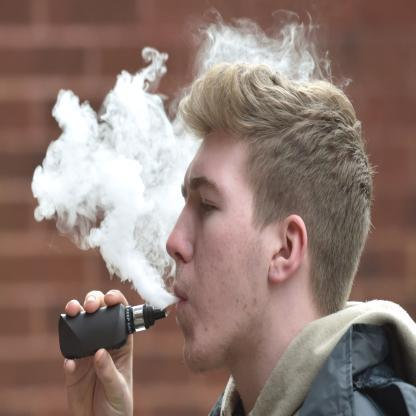person: (166, 64, 415, 415)
smoke: (32, 58, 181, 294), (197, 8, 314, 69)
